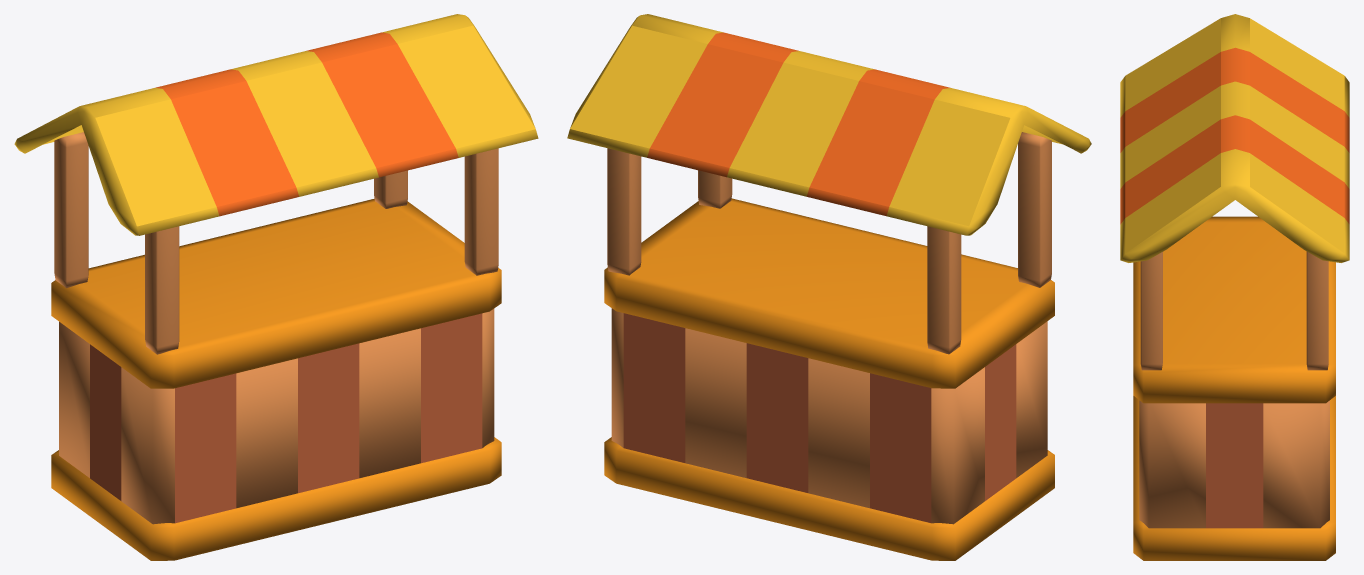
Rendered from budka2.gltf.
3 renders of one model, left to right at view 1: azimuth 30°, elevation 25°; view 2: azimuth 150°, elevation 25°; view 3: azimuth 270°, elevation 25°, orthographic. The views are drawn at different scales.
Parts seen in each view (by area): view 1: Plane.017, Cube.002, Cube.001, Cube, Cube.006; view 2: Plane.017, Cube.002, Cube.001, Cube, Cube.006; view 3: Plane.017, Cube.001, Cube.002, Cube, Cube.006.
Boxes of the visible parts, left/top/right/bottom form: Plane.017: left=14, top=14, right=538, bottom=235; Cube.002: left=59, top=309, right=494, bottom=524; Cube.001: left=51, top=198, right=501, bottom=388; Cube: left=51, top=437, right=501, bottom=560; Cube.006: left=54, top=132, right=498, bottom=354; Plane.017: left=567, top=14, right=1091, bottom=235; Cube.002: left=611, top=308, right=1047, bottom=524; Cube.001: left=604, top=198, right=1054, bottom=388; Cube: left=604, top=437, right=1054, bottom=560; Cube.006: left=607, top=132, right=1051, bottom=354; Plane.017: left=1120, top=14, right=1349, bottom=262; Cube.001: left=1133, top=216, right=1335, bottom=403; Cube.002: left=1139, top=400, right=1329, bottom=528; Cube: left=1133, top=396, right=1335, bottom=560; Cube.006: left=1140, top=251, right=1328, bottom=370.
Size of the model in its own units: 6.72 by 6.59 by 3.55.
1 material, 1 textured.
